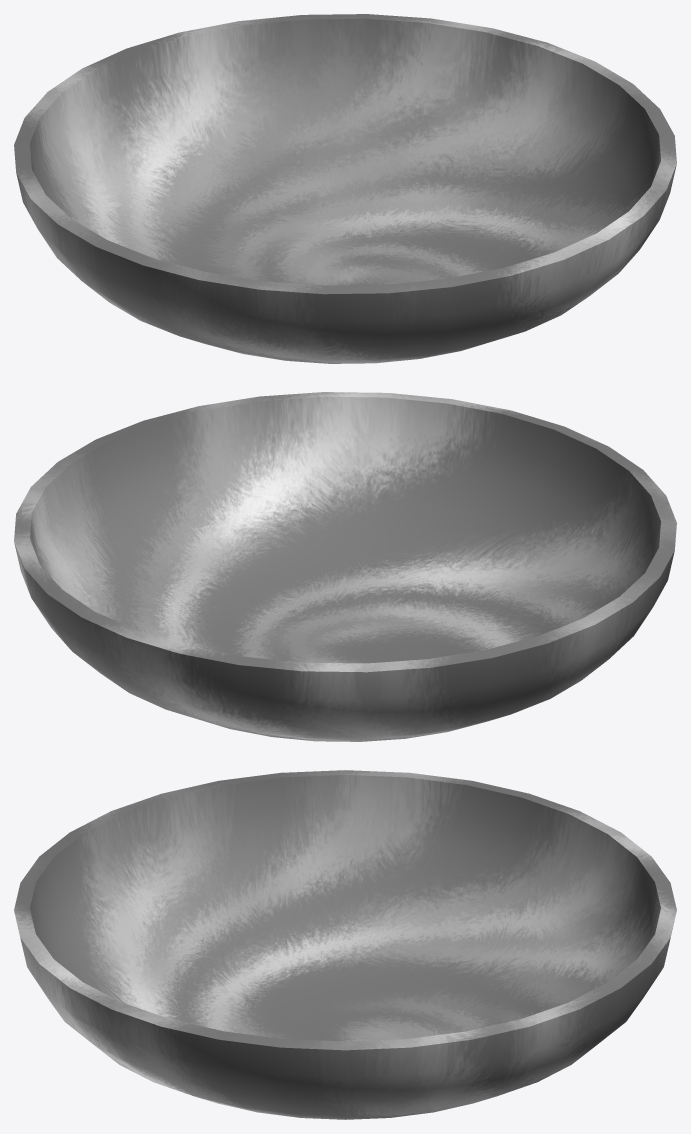
Rendered from thebowl.gltf.
The picture shows the model from 3 angles, top to bottom: view 1: azimuth 30°, elevation 25°; view 2: azimuth 150°, elevation 25°; view 3: azimuth 270°, elevation 25°; orthographic projection.
Visible parts, largest first — view 1: Sphere; view 2: Sphere; view 3: Sphere.
Boxes of the visible parts, bbox=[...] form: Sphere: bbox=[14, 14, 676, 363]; Sphere: bbox=[14, 392, 676, 741]; Sphere: bbox=[14, 770, 676, 1119].
Size of the model in its own units: 2.1 by 0.4795 by 2.1.
Materials: 1 (1 with a texture image).
